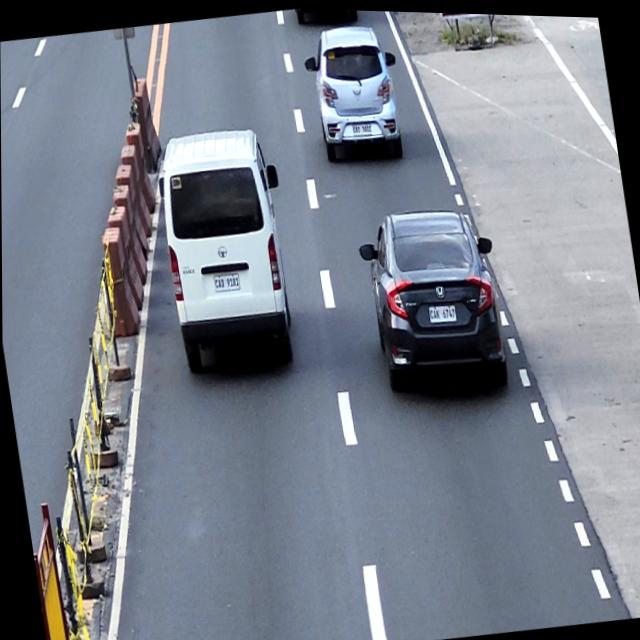Car: (151, 119, 305, 376), (353, 196, 512, 398), (300, 16, 410, 167)
License-Plate: (426, 297, 458, 323), (213, 270, 241, 293), (351, 117, 374, 138)
